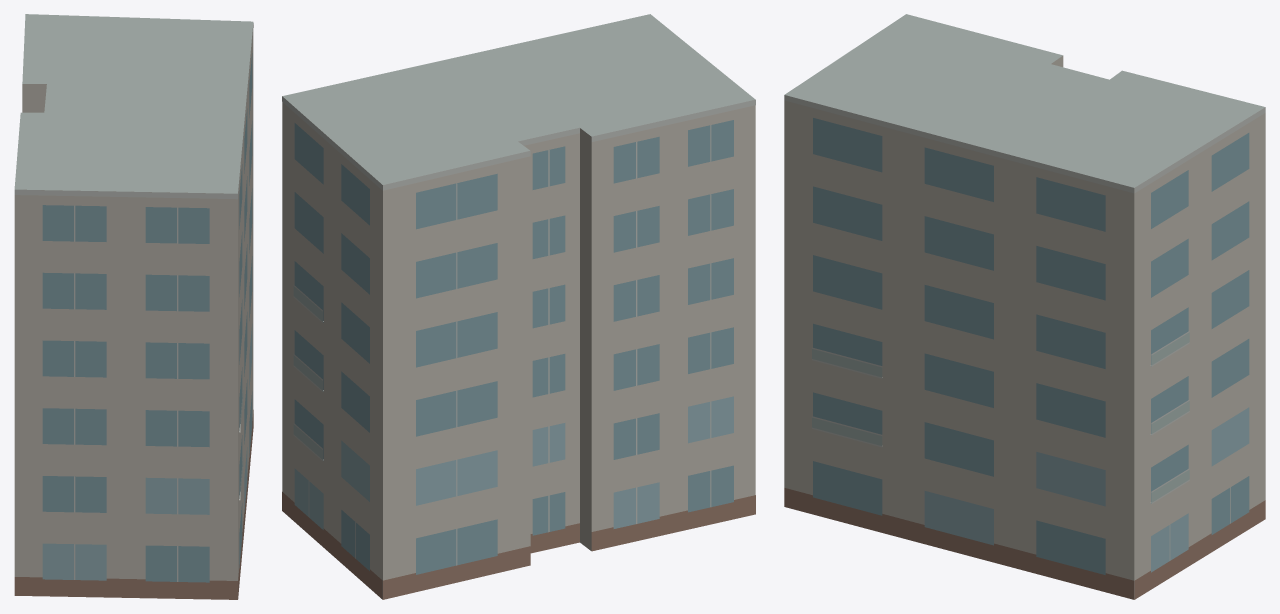
Rendered from survey-upis-32596092.glb.
3 views of the same model, side by side, from view 1: azimuth 30°, elevation 25°; view 2: azimuth 150°, elevation 25°; view 3: azimuth 270°, elevation 25° (orthographic). The views are drawn at different scales.
Visible parts, largest first — view 1: survey-upis-32596092.tmp; view 2: survey-upis-32596092.tmp; view 3: survey-upis-32596092.tmp.
Part boxes in pixels (x1,y1,x2,y2): survey-upis-32596092.tmp: [14, 14, 253, 599]; survey-upis-32596092.tmp: [282, 14, 755, 599]; survey-upis-32596092.tmp: [784, 14, 1265, 599].
Size of the model in its own units: 16.39 by 18.1 by 19.17.
